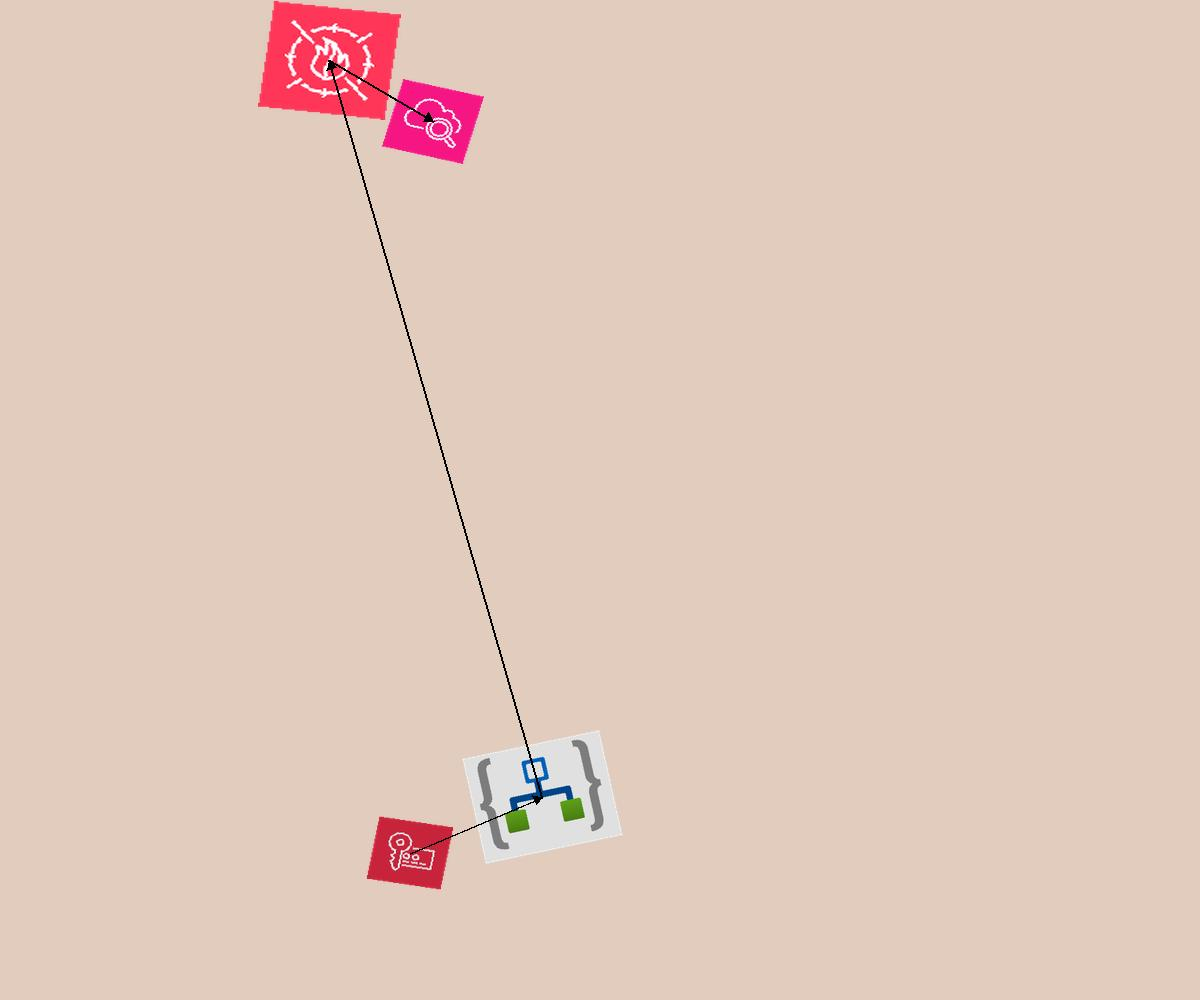AWS-CloudWatch: (382, 79, 484, 164)
AWS-Key-Management-Service: (366, 816, 454, 890)
AWS-WAF: (258, 1, 401, 120)
Azure_integration-204-Logic-Apps: (462, 730, 623, 864)
